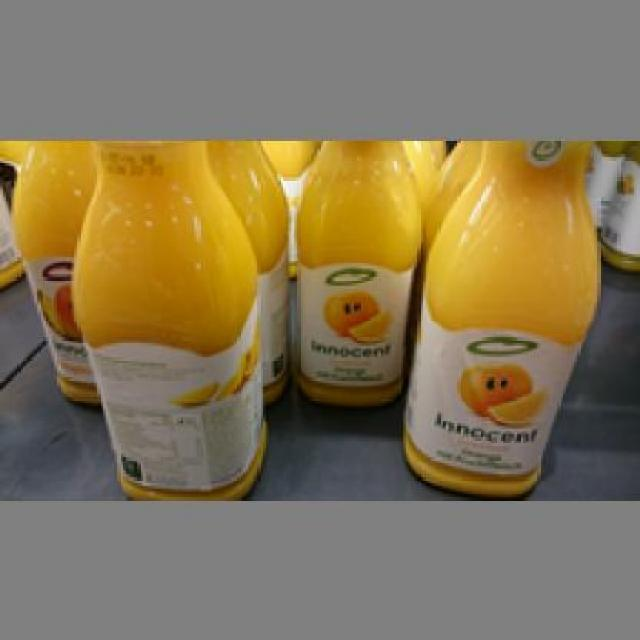Juice: (66, 137, 266, 497), (397, 137, 597, 492), (286, 137, 423, 403)
